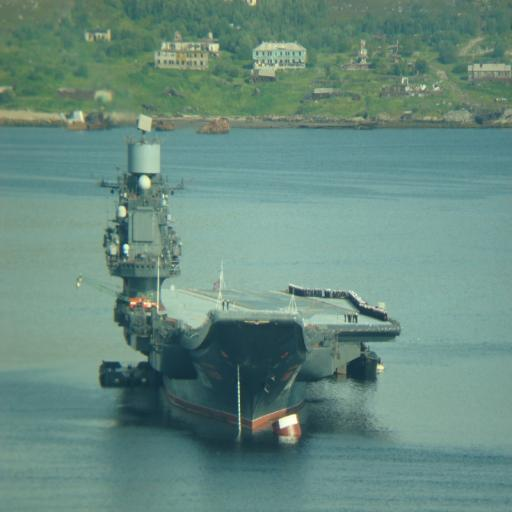Portanaves: (94, 108, 407, 456)
